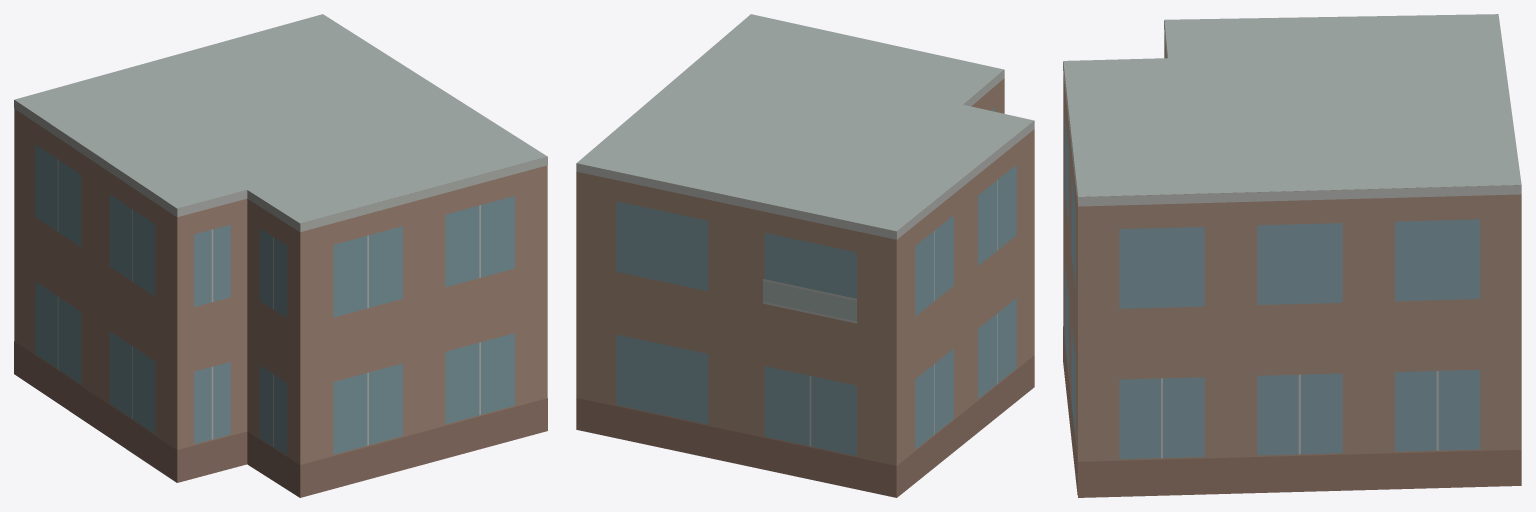
File: survey-upis-33037882.glb
3 views of the same model, side by side, from view 1: azimuth 30°, elevation 25°; view 2: azimuth 150°, elevation 25°; view 3: azimuth 270°, elevation 25° (orthographic). The views are drawn at different scales.
Visible parts, largest first — view 1: survey-upis-33037882.tmp; view 2: survey-upis-33037882.tmp; view 3: survey-upis-33037882.tmp.
Boxes of the visible parts, box(x1,y1,x2,y2) form: survey-upis-33037882.tmp: box(14, 14, 547, 497); survey-upis-33037882.tmp: box(576, 14, 1034, 497); survey-upis-33037882.tmp: box(1063, 14, 1521, 497).
Bounding box in the file's own units: 10.05 × 7.7 × 10.64.
